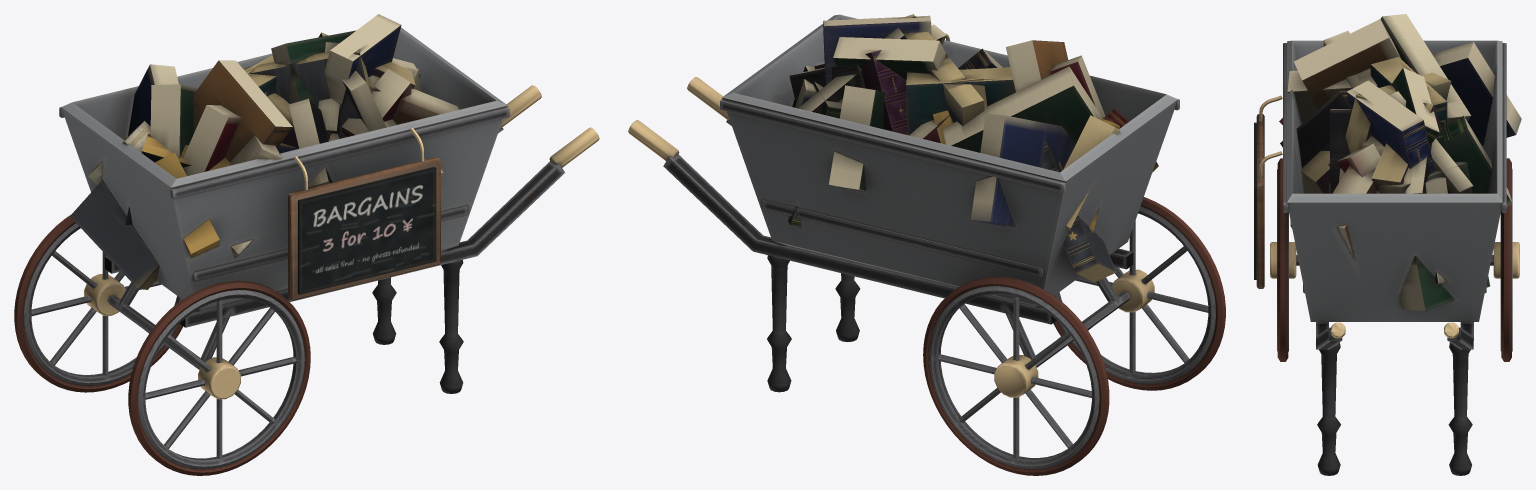
The model's file is BargainBinCart.fbx.
3 views of the same model, side by side, from view 1: azimuth 30°, elevation 25°; view 2: azimuth 150°, elevation 25°; view 3: azimuth 270°, elevation 25° (orthographic). The views are drawn at different scales.
Parts seen in each view (by area): view 1: BargainBinCart; view 2: BargainBinCart; view 3: BargainBinCart.
Part boxes in pixels (x1,y1,x2,y2): BargainBinCart: (14,14,599,475); BargainBinCart: (628,14,1225,475); BargainBinCart: (1254,14,1521,475).
Size of the model in its own units: 427 by 300 by 204.
